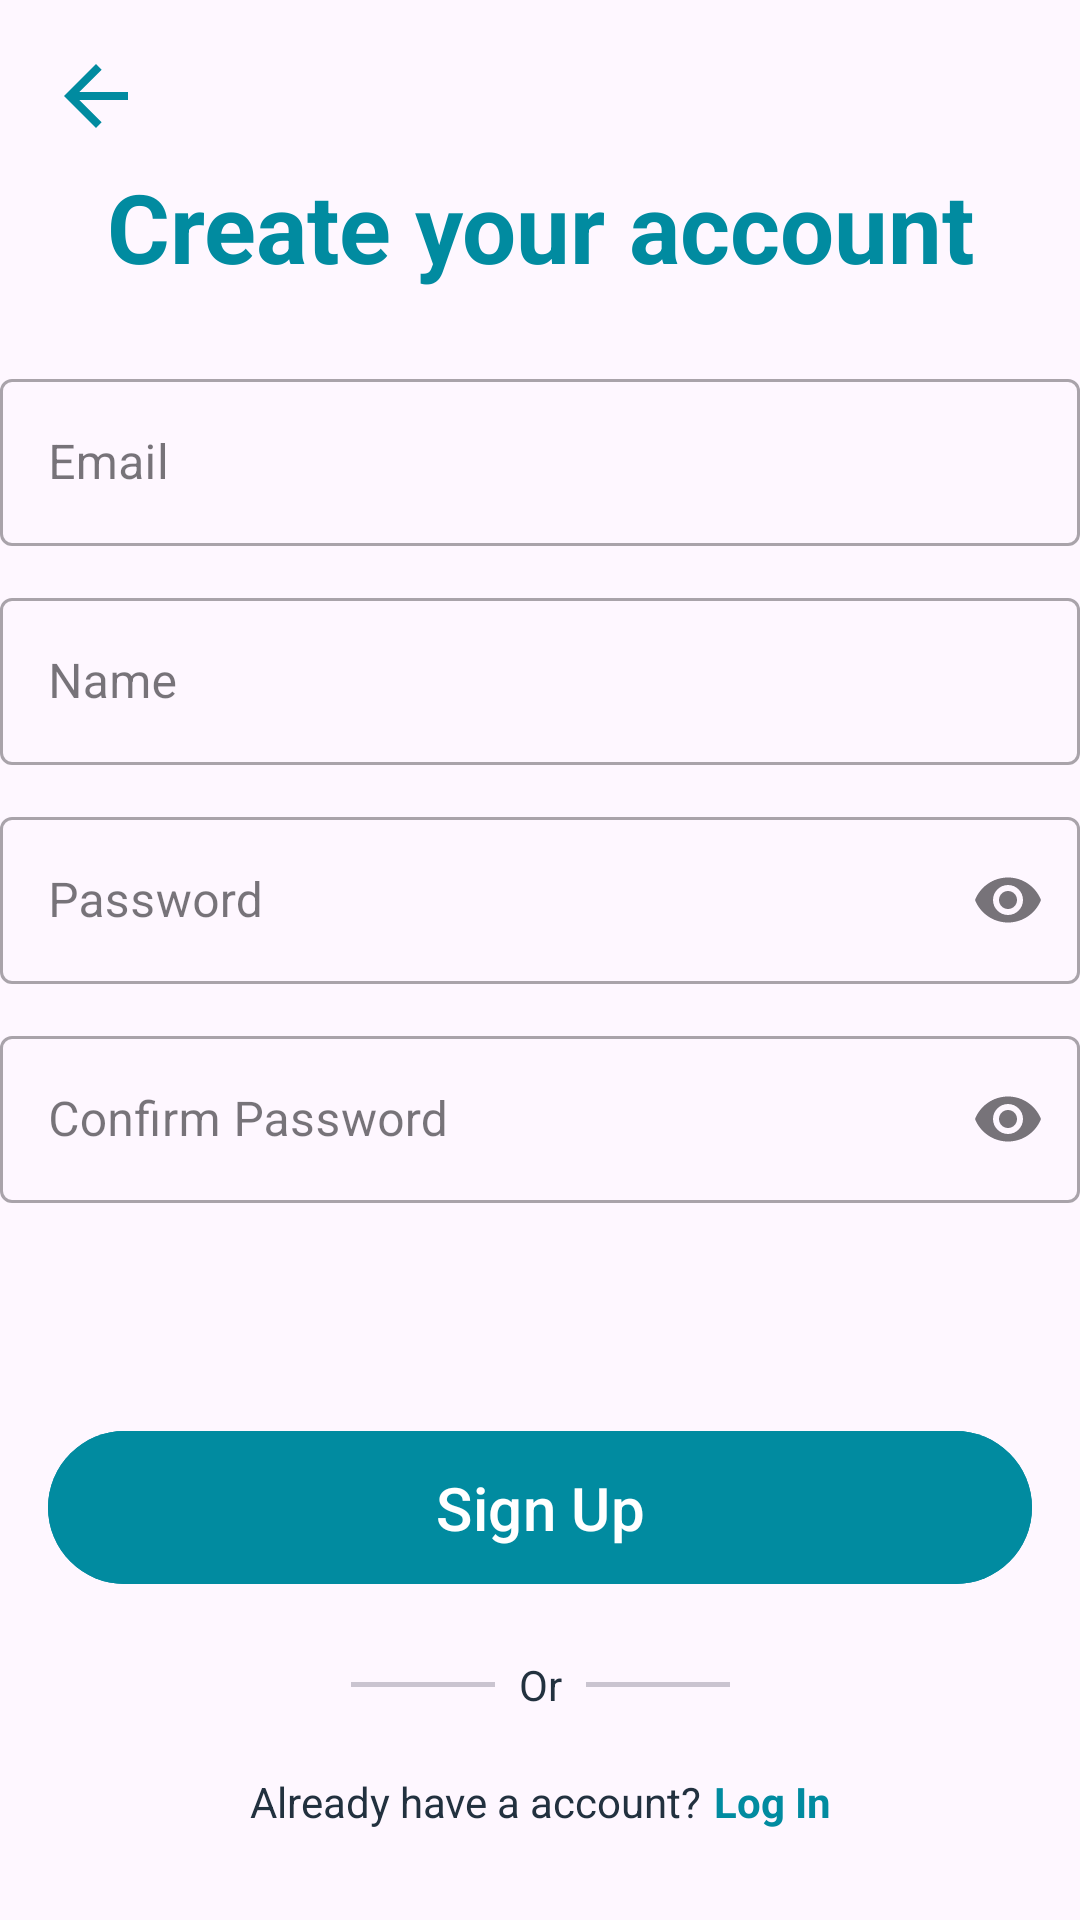

Screen size 1080*1920. Icon name, then its center in pixels as point (x, y):
arrow back: point (96, 96)
